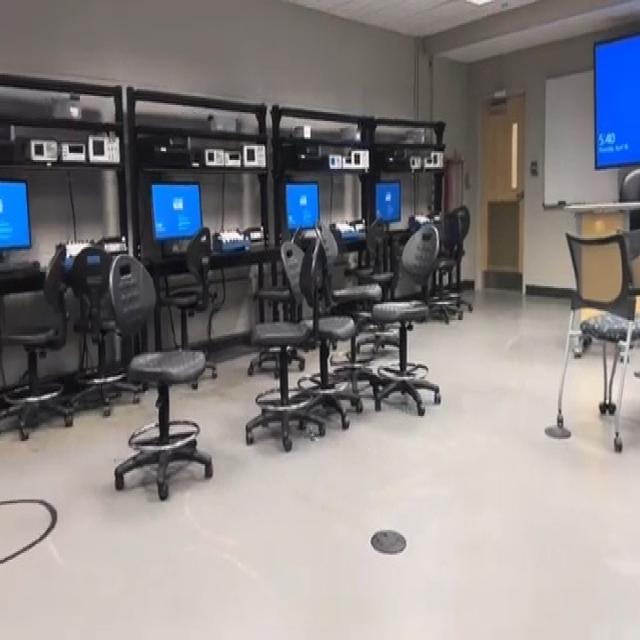drone: (295, 412, 328, 452)
